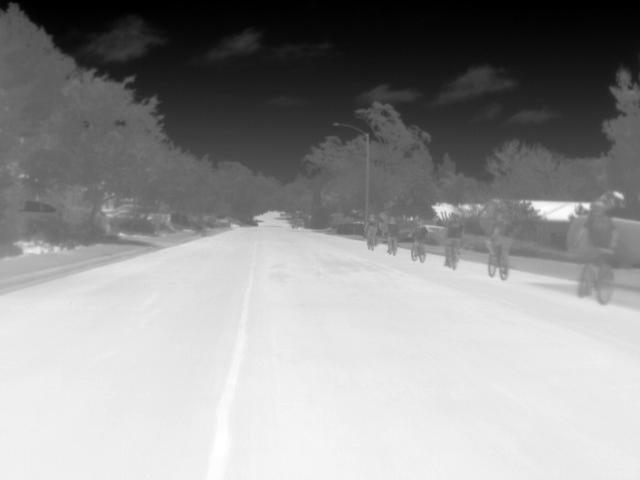car: (562, 213, 590, 256), (611, 218, 634, 268), (21, 198, 65, 220)
person: (578, 200, 618, 287), (484, 214, 511, 271), (438, 219, 458, 259), (408, 218, 428, 254), (365, 214, 382, 244), (385, 220, 399, 250)
